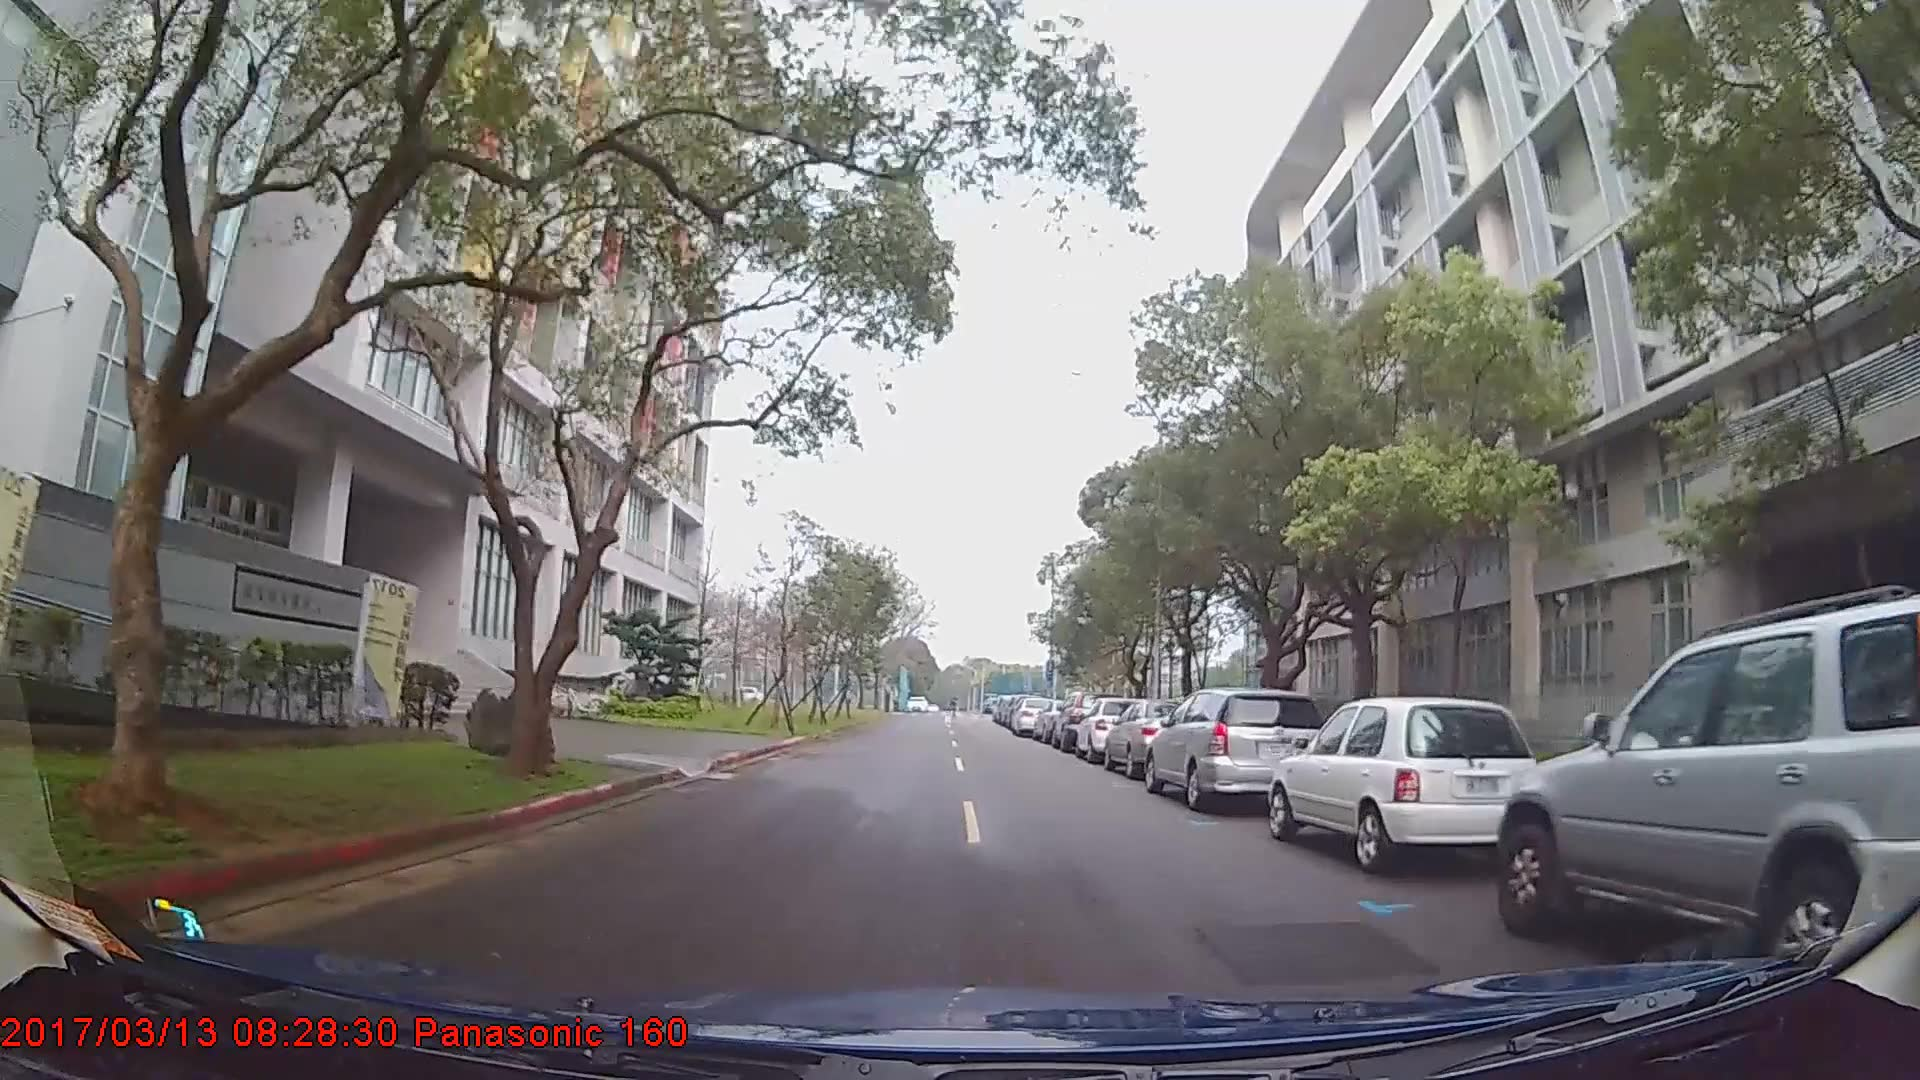vehicle: (1494, 589, 1919, 977), (1266, 694, 1544, 870), (1142, 687, 1331, 810), (1101, 694, 1205, 777), (1007, 692, 1056, 735)
